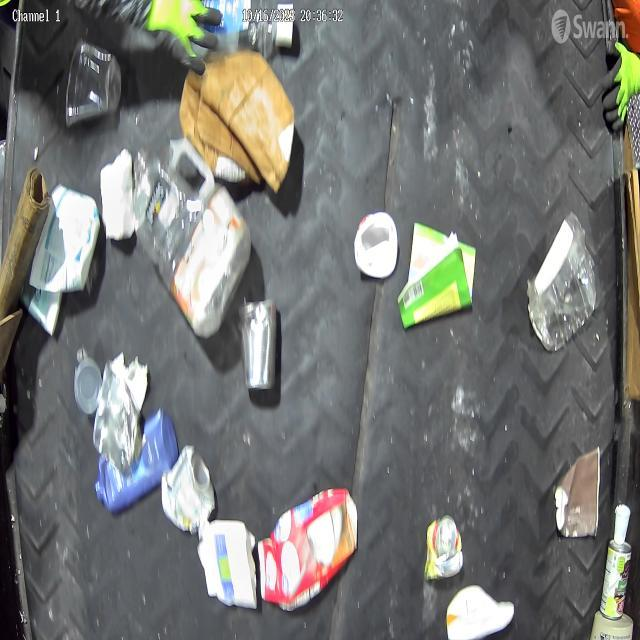can: (155, 440, 217, 537), (597, 524, 640, 630), (418, 499, 464, 594), (244, 292, 282, 396)
non_white_jug: (128, 136, 252, 338)
